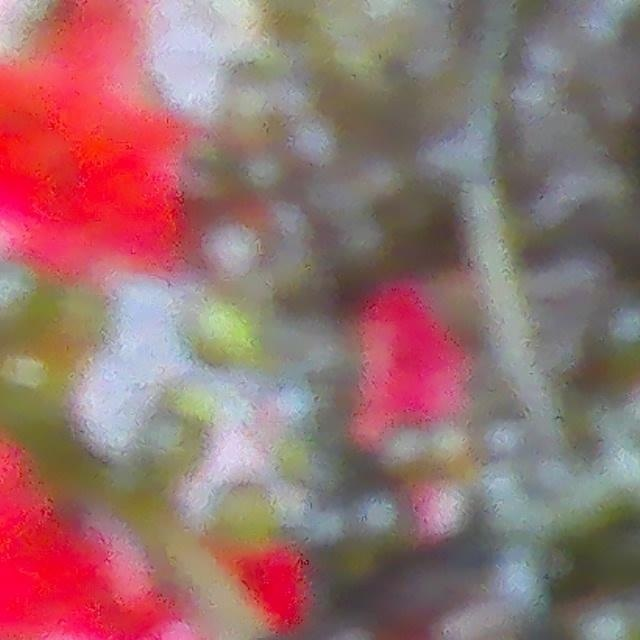SeaGrape: (193, 294, 271, 370), (0, 260, 60, 349)
